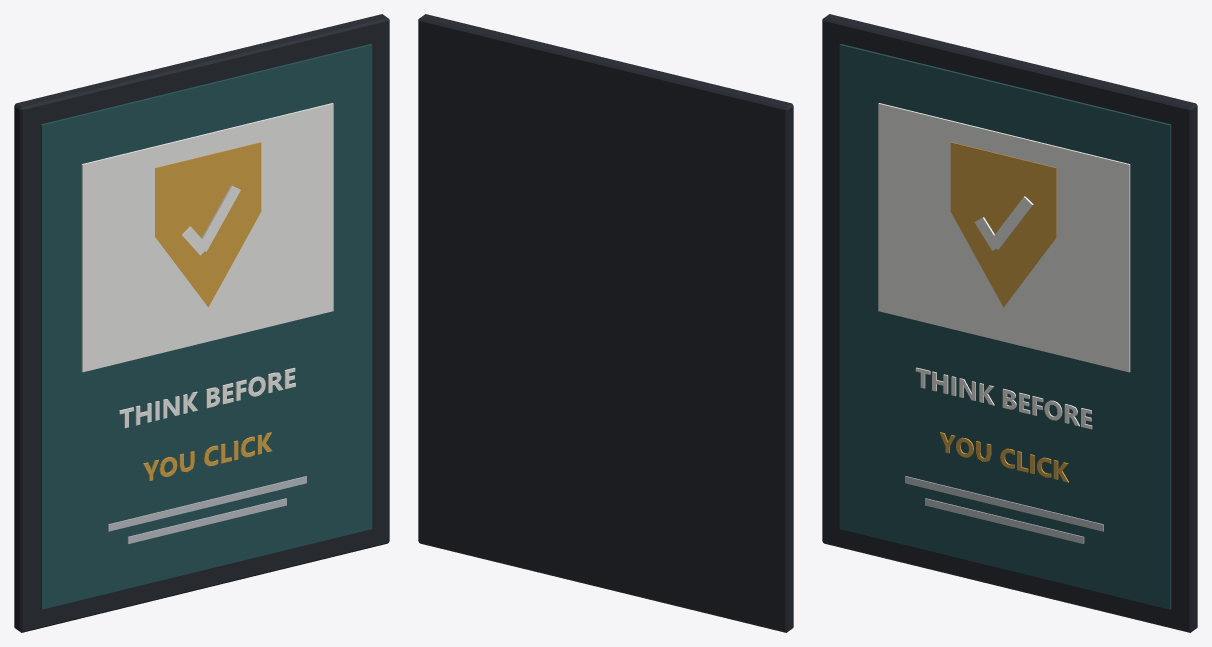
The model's file is poster_security.glb.
3 renders of one model, left to right at view 1: azimuth 30°, elevation 25°; view 2: azimuth 150°, elevation 25°; view 3: azimuth 330°, elevation 25°, orthographic.
Parts seen in each view (by area): view 1: PosterSecurity; view 2: PosterSecurity; view 3: PosterSecurity.
Part boxes in pixels (x1,y1,x2,y2): PosterSecurity: (14, 14, 389, 632); PosterSecurity: (418, 14, 793, 632); PosterSecurity: (822, 14, 1197, 632).
Size of the model in its own units: 0.56 by 0.76 by 0.0315.
